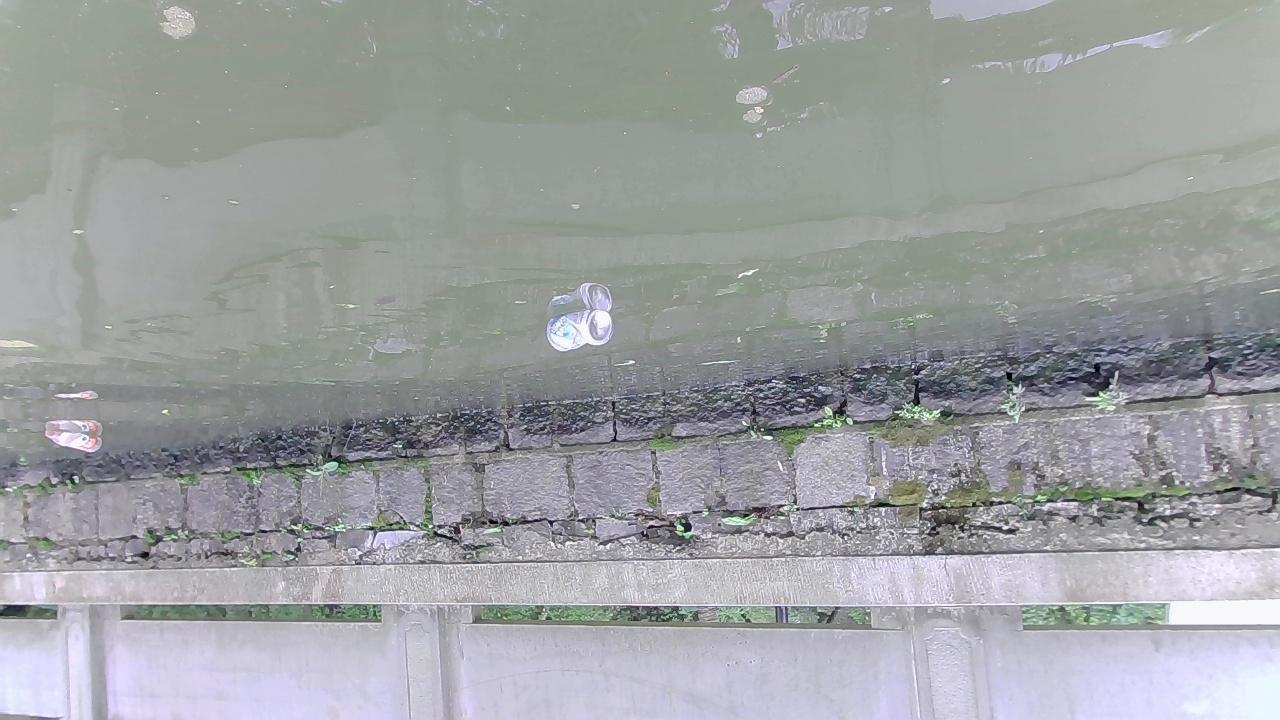Metal: (546, 309, 615, 353)
Plastic: (45, 430, 104, 454)
